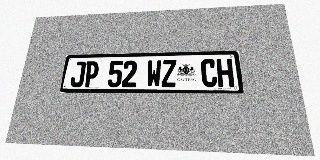2: (122, 60, 137, 87)
5: (107, 61, 123, 87)
C: (201, 59, 218, 87)
H: (216, 59, 234, 87)
J: (69, 61, 86, 87)
P: (83, 61, 100, 87)
W: (146, 60, 161, 87)
Z: (161, 60, 176, 87)
